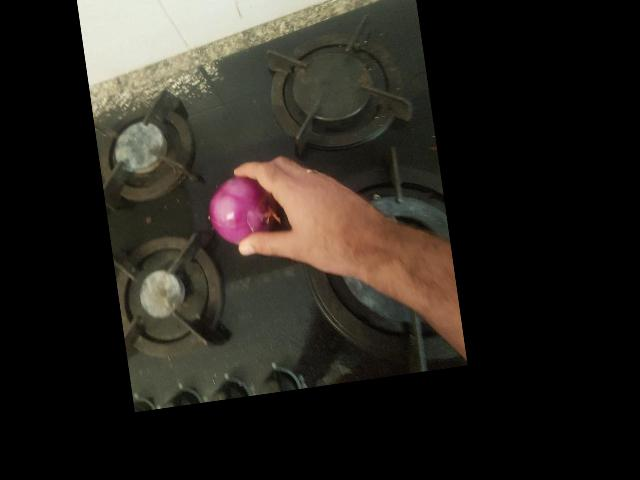onion: (126, 56, 197, 126)
